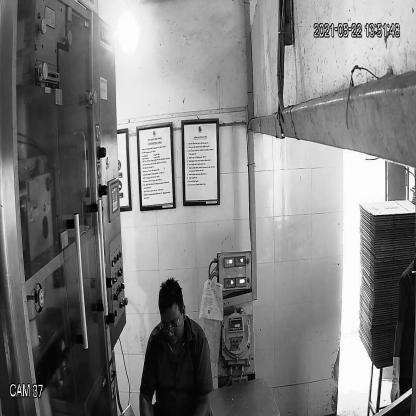goggles: (160, 314, 182, 338)
